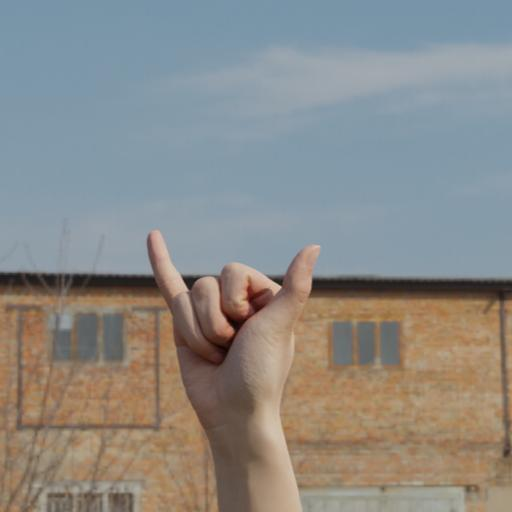Y: (129, 218, 339, 512)
